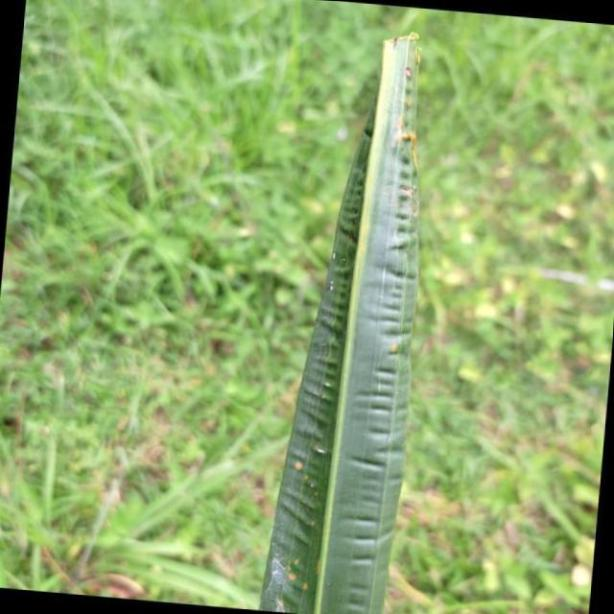Boron: (260, 27, 439, 614)
